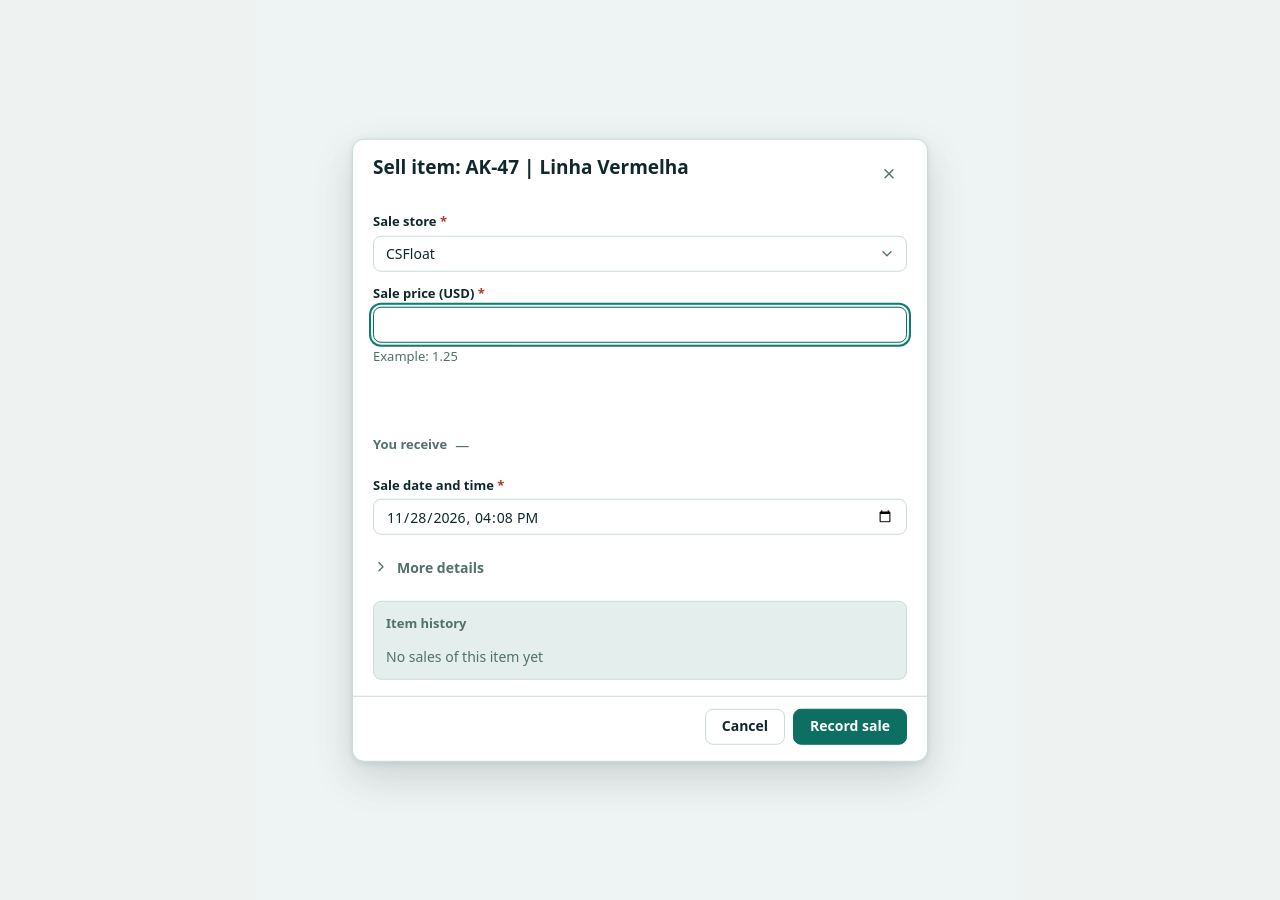
Scenario: SellItemModal: loja com taxas configuradas › o líquido fica recolhido: aparece "Você recebe" calculado e o campo só em "Mais detalhes"
Expected: the field labelled "Net received" is not shown
Type "1.25" into the field labelled "Sale price (USD) *" at x=640, y=325, box [386, 308, 894, 342]
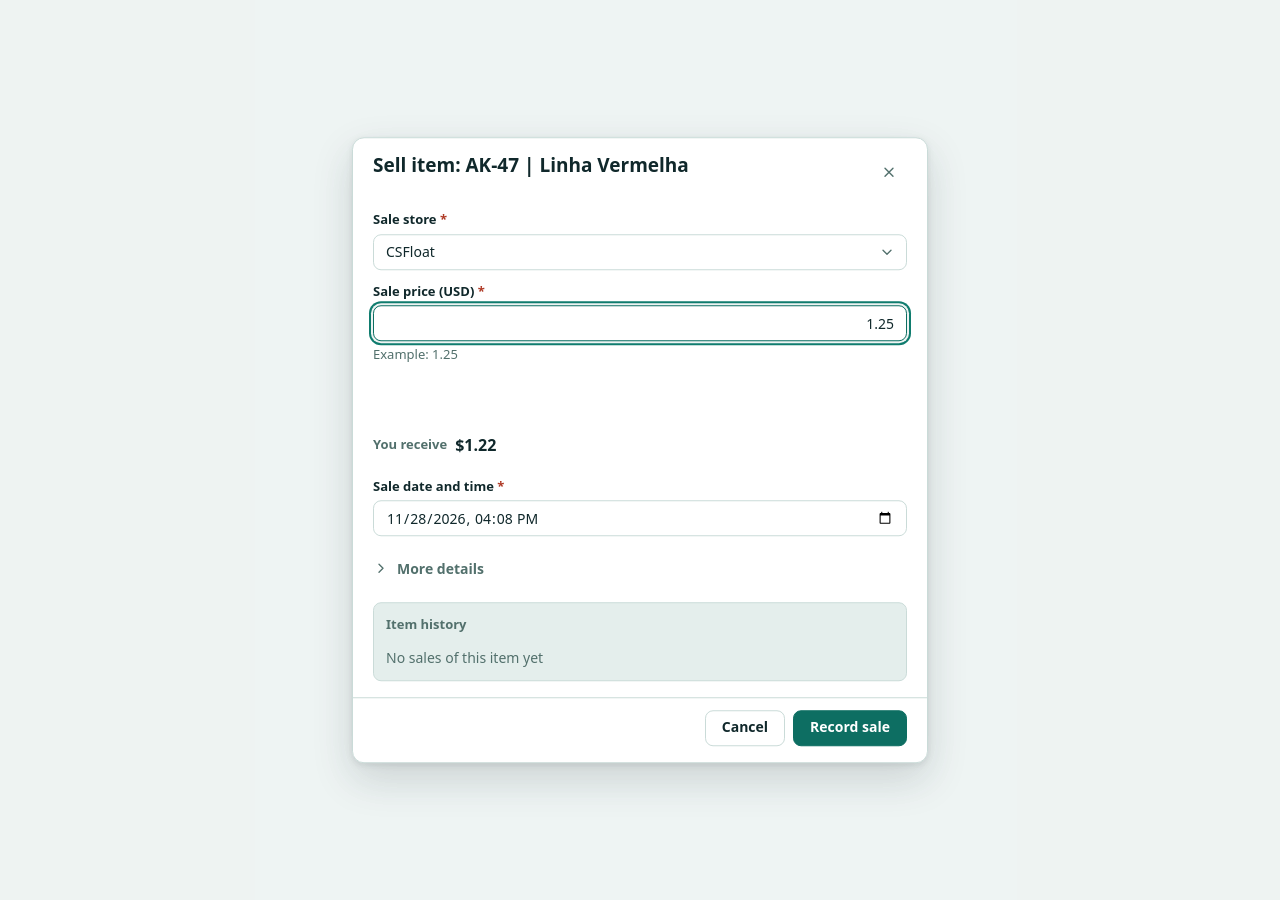
Expected: the text "You receive" is shown, [373, 435, 447, 454]
Result: the text "$1.22" is shown at [455, 433, 496, 457]
Click the button "More details" at x=428, y=568, box [373, 556, 484, 580]
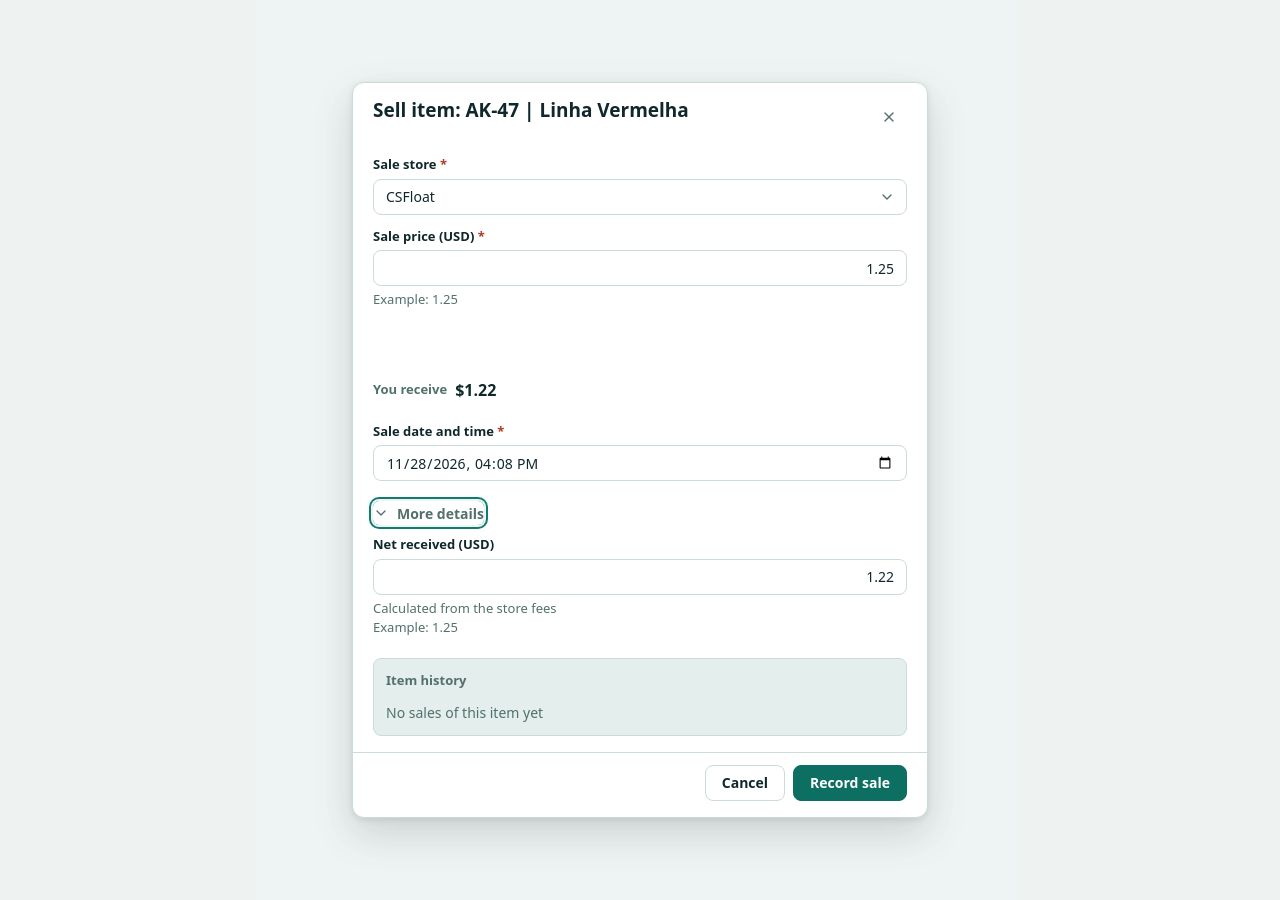
Result: the field labelled "Net received (USD)" holds "1.22" at [386, 560, 894, 594]
